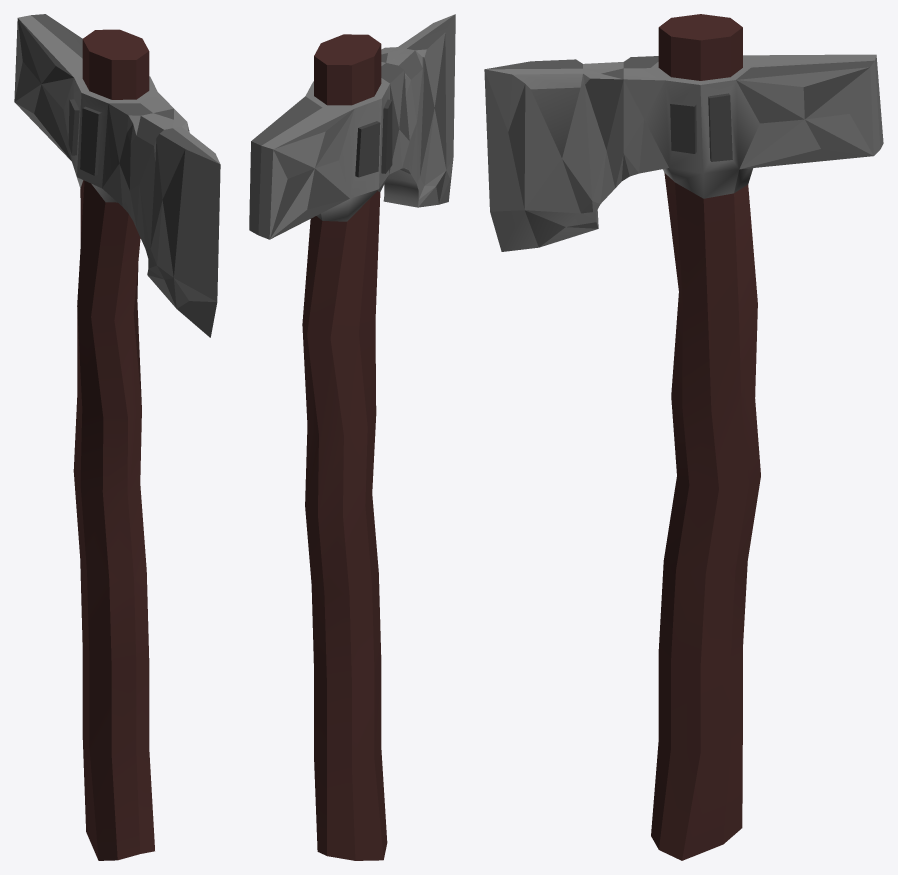
File: Axe.obj
3 renders of one model, left to right at view 1: azimuth 30°, elevation 25°; view 2: azimuth 150°, elevation 25°; view 3: azimuth 270°, elevation 25°, orthographic. The views are drawn at different scales.
Parts seen in each view (by area): view 1: pCylinder9; view 2: pCylinder9; view 3: pCylinder9.
Boxes of the visible parts, <box> form: pCylinder9: <box>14,14,220,860</box>; pCylinder9: <box>249,14,455,860</box>; pCylinder9: <box>484,14,883,860</box>.
Size of the model in its own units: 0.3273 by 3.4 by 1.5.
